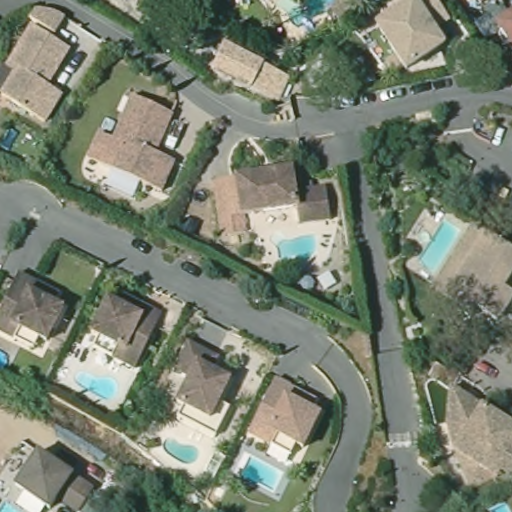pool: (418, 219, 461, 275), (238, 454, 286, 491), (271, 1, 337, 27), (73, 370, 122, 400), (275, 232, 321, 263), (162, 435, 202, 465), (1, 349, 11, 371)
